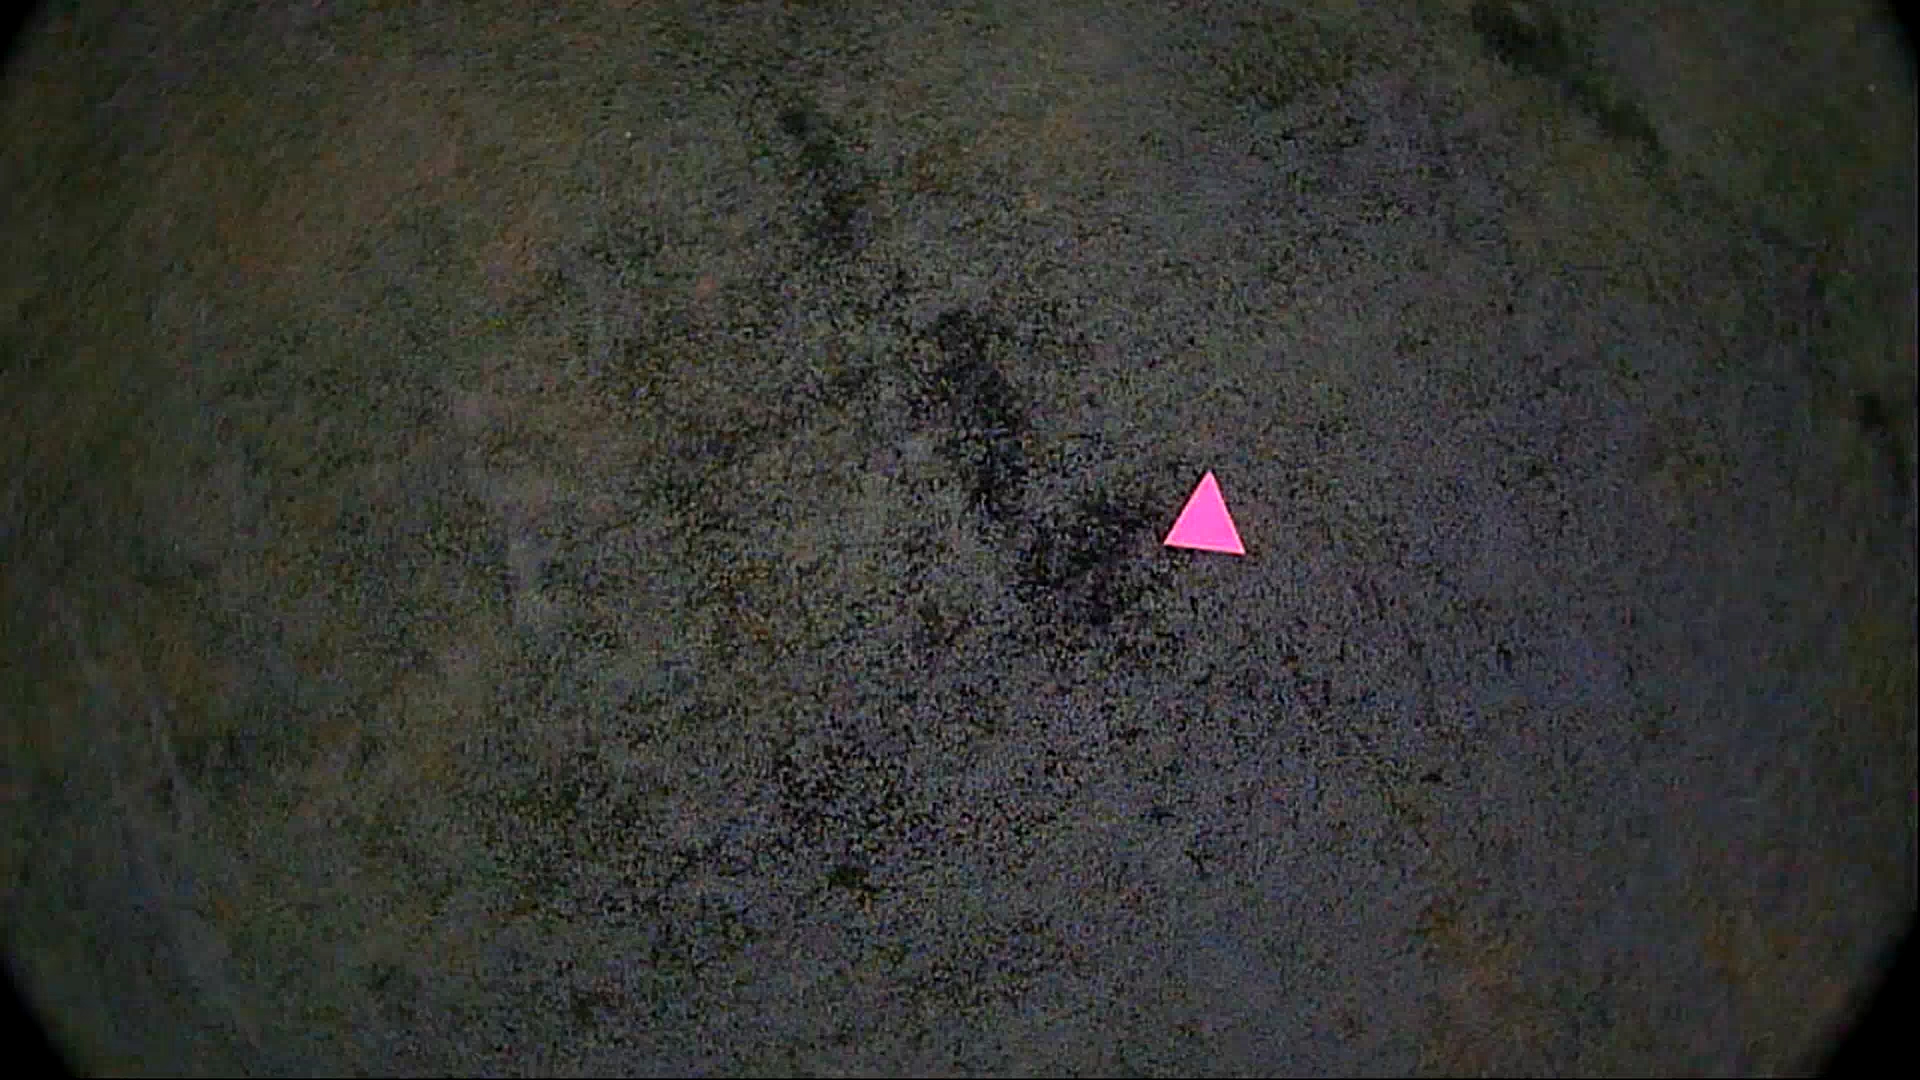triangle: (1158, 464, 1255, 567)
